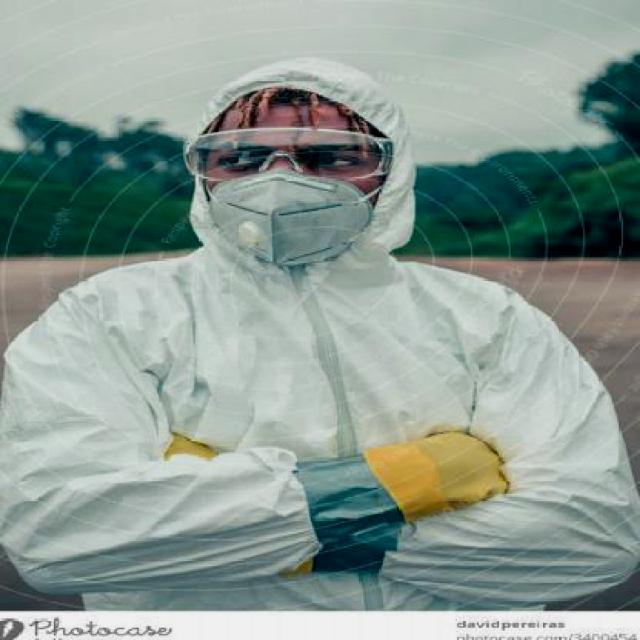face_mask: (202, 125, 378, 262)
glasses: (180, 123, 394, 186)
head_nohelmet: (198, 43, 390, 131)
person: (0, 55, 594, 607)
